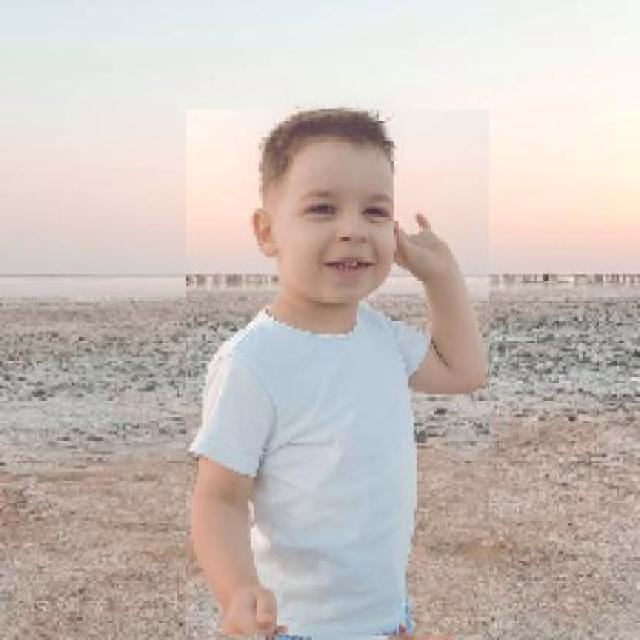child: (185, 109, 489, 637)
